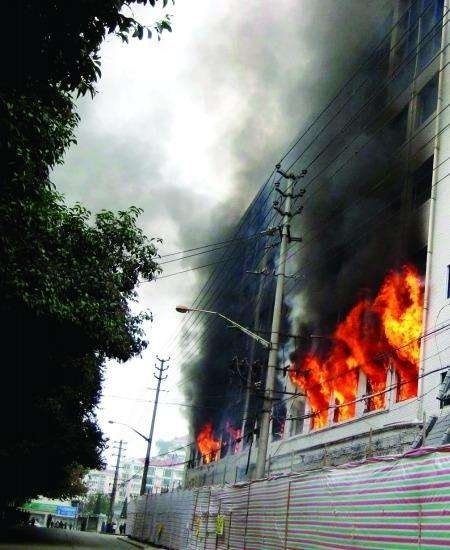fire: (290, 266, 423, 429), (196, 418, 243, 462)
